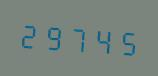five: (114, 22, 137, 60)
four: (90, 20, 113, 58)
nine: (42, 17, 65, 55)
seven: (66, 19, 89, 56)
two: (18, 15, 41, 53)
